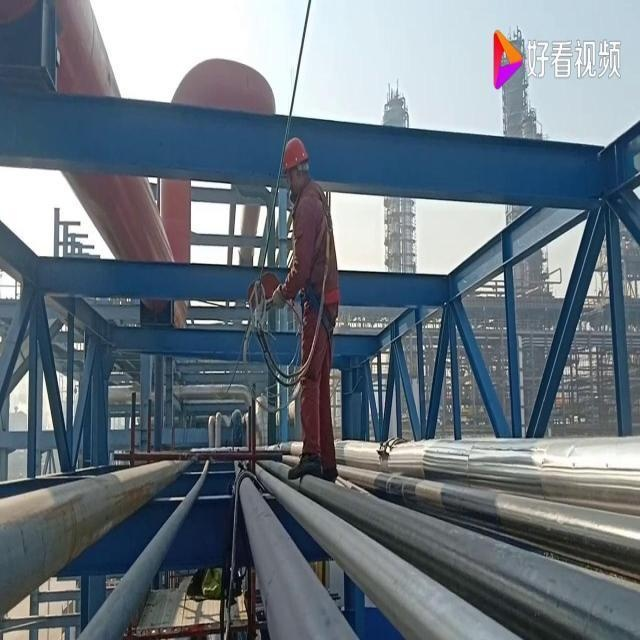Arnes_seguridad: (291, 176, 337, 298)
